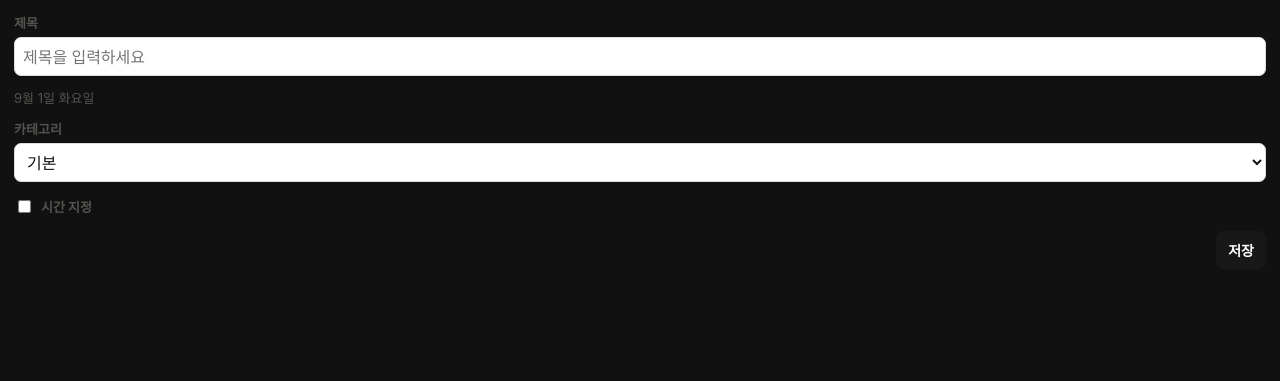
자정을 넘는 시간은 종료 날짜가 뒤에 있을 때만 저장한다 (2026-09-01)
Type "야간 일정" into the field labelled "제목" at (640, 56), box [14,37,1266,76]
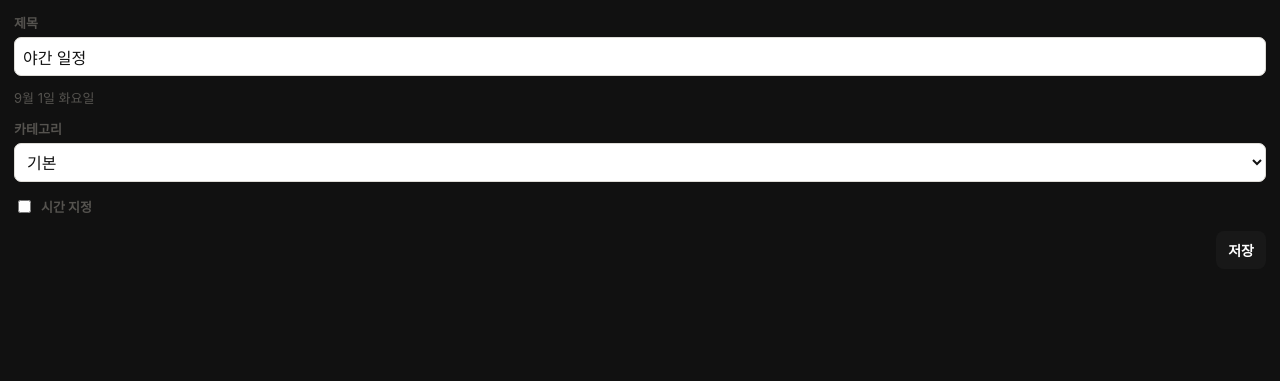
Click the checkbox labelled "시간 지정" at (24, 206), box [18,200,31,213]
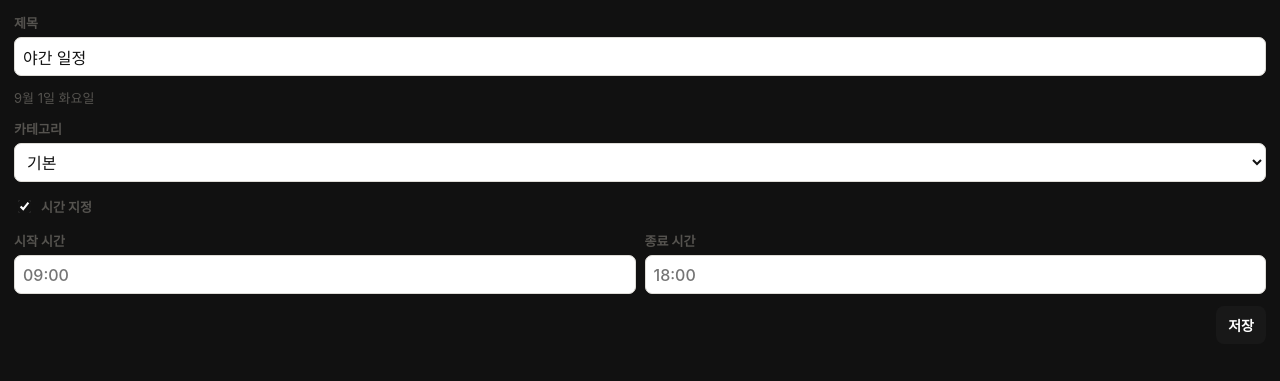
Type "2300" into the field labelled "시작 시간" at (325, 274), box [14,255,636,294]
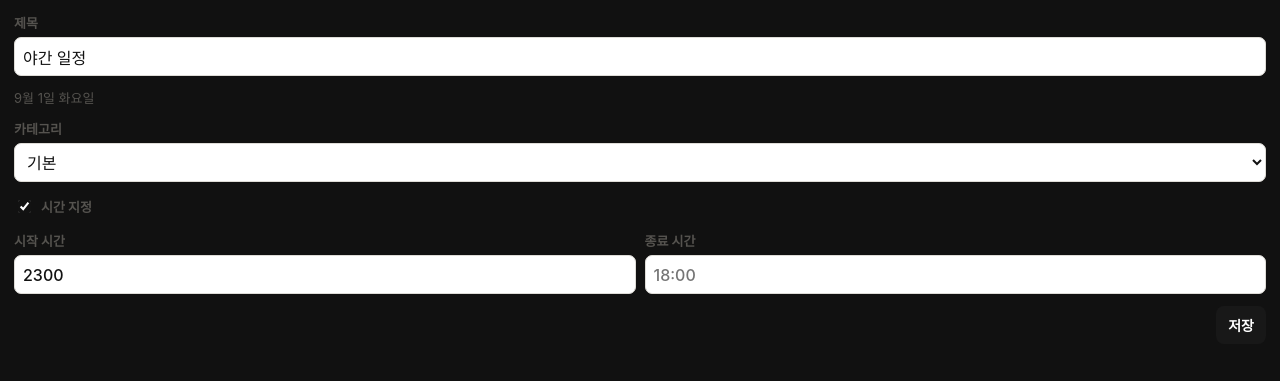
Type "0900" into the field labelled "종료 시간" at (955, 274), box [644,255,1266,294]
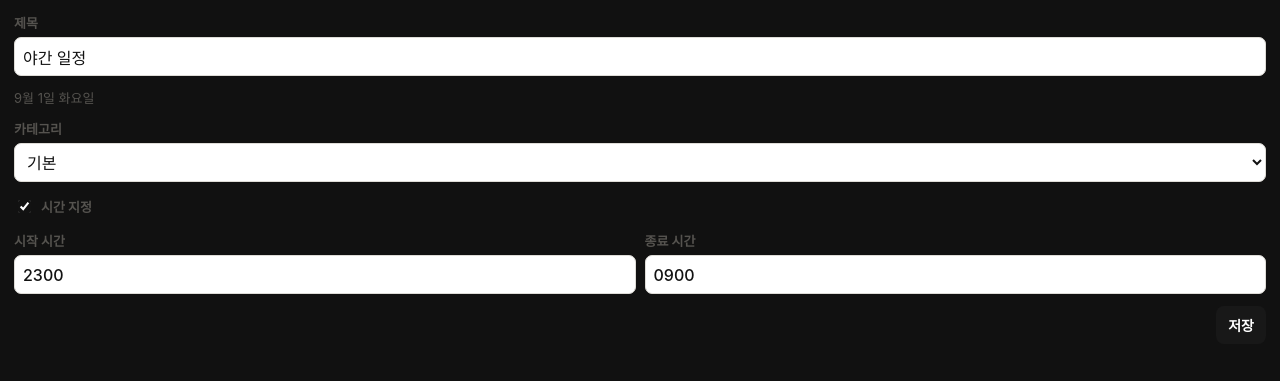
Click the button "저장" at (1241, 325), box [1216,306,1266,344]
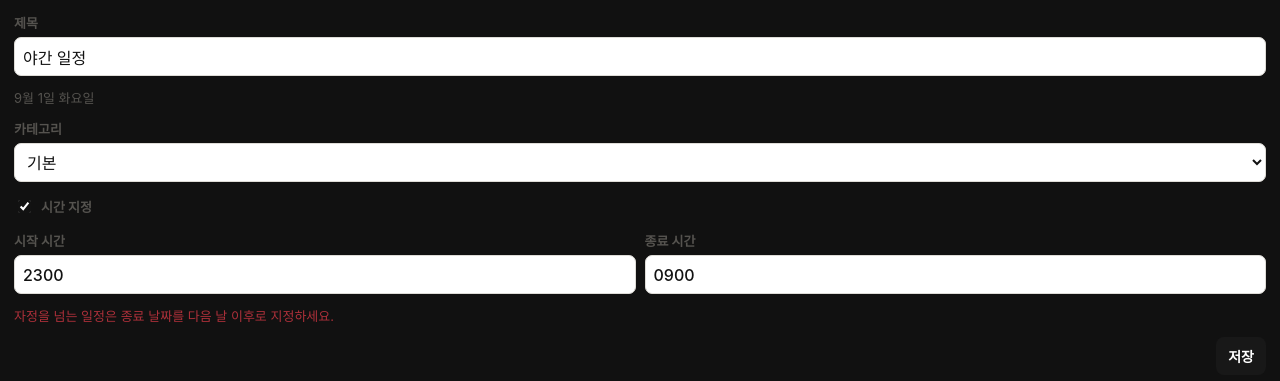
expect the message shows "종료 날짜를 다음 날 이후로 지정하세요": met, box [14,308,334,324]
